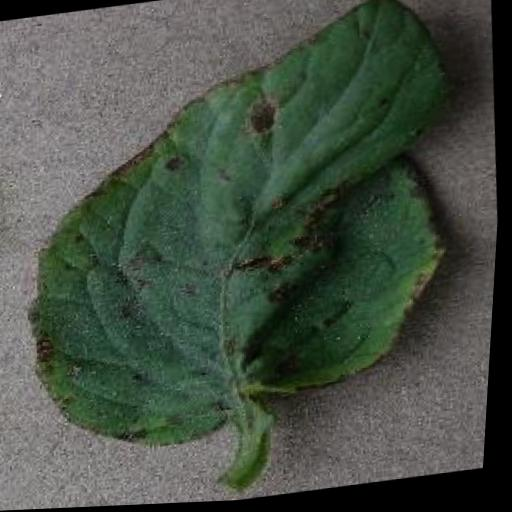Bacterial Spot: (0, 0, 490, 476)
